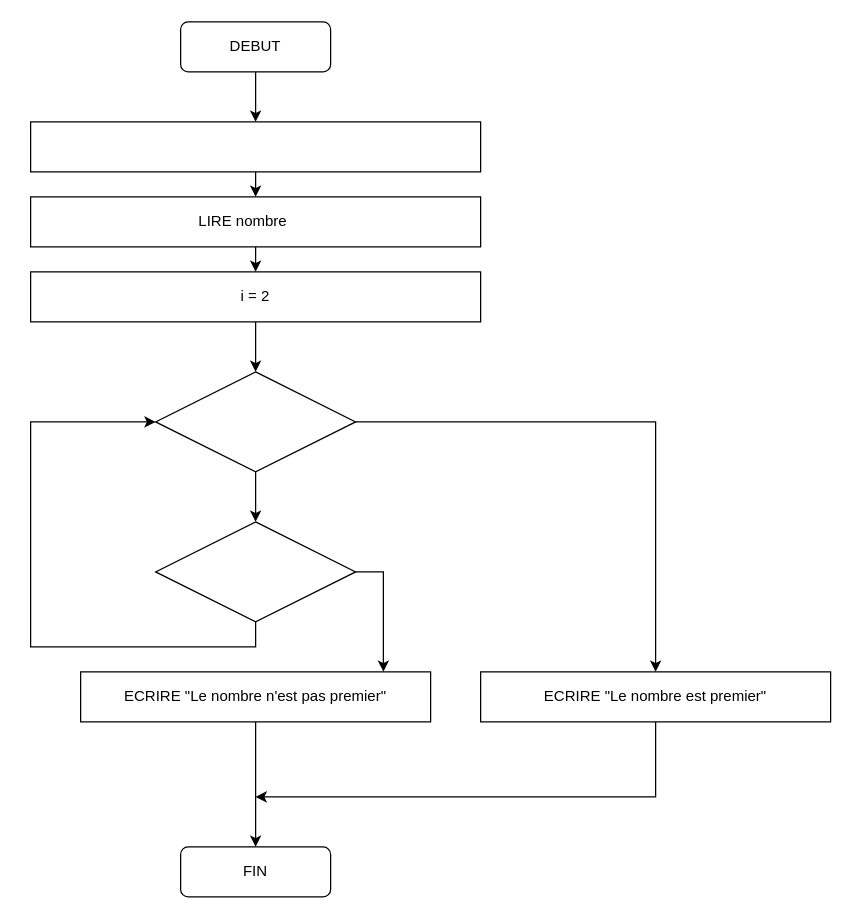
The diagram is 853 pixels wide and 919 high, and some of its shapes have lost their labels. The shapes that lost their labels are listed below. From the top down, each one's centre as x and y in pixels, then its label:
(255,146): ECRIRE "Veuillez saisir le nombre entier : "
(255,421): i <= n-1
(255,571): nombre mod i = 0
